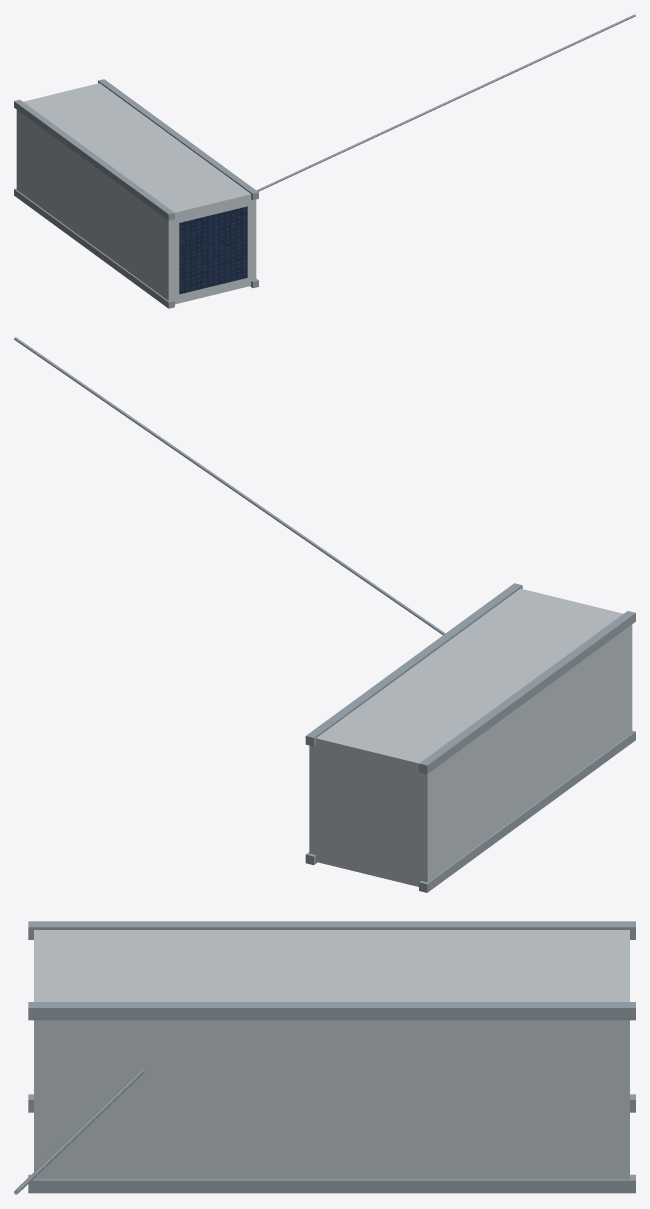
File: ref-cubesat-3u-27845.glb
3 renders of one model, top to bottom at view 1: azimuth 30°, elevation 25°; view 2: azimuth 150°, elevation 25°; view 3: azimuth 270°, elevation 25°, orthographic. The views are drawn at different scales.
Parts seen in each view (by area): view 1: Spacecraft body, Body-mounted cells, Dispenser rail (×3), Antenna boom; view 2: Spacecraft body, Dispenser rail (×3), Antenna boom; view 3: Spacecraft body, Dispenser rail (×3), Antenna boom.
Part boxes in pixels (box(x1,y1,x2,y2)): Spacecraft body: box(16, 83, 256, 304); Body-mounted cells: box(179, 206, 247, 294); Dispenser rail (×3): box(14, 79, 258, 308); Antenna boom: box(256, 14, 635, 191); Spacecraft body: box(309, 588, 632, 886); Dispenser rail (×3): box(305, 583, 635, 892); Antenna boom: box(14, 337, 445, 634); Spacecraft body: box(34, 930, 629, 1179); Dispenser rail (×3): box(28, 921, 635, 1193); Antenna boom: box(14, 1069, 144, 1194).
Bounding box in the file's own units: 0.5296 × 0.2004 × 0.3131.
Materials: 3 (1 with a texture image).
